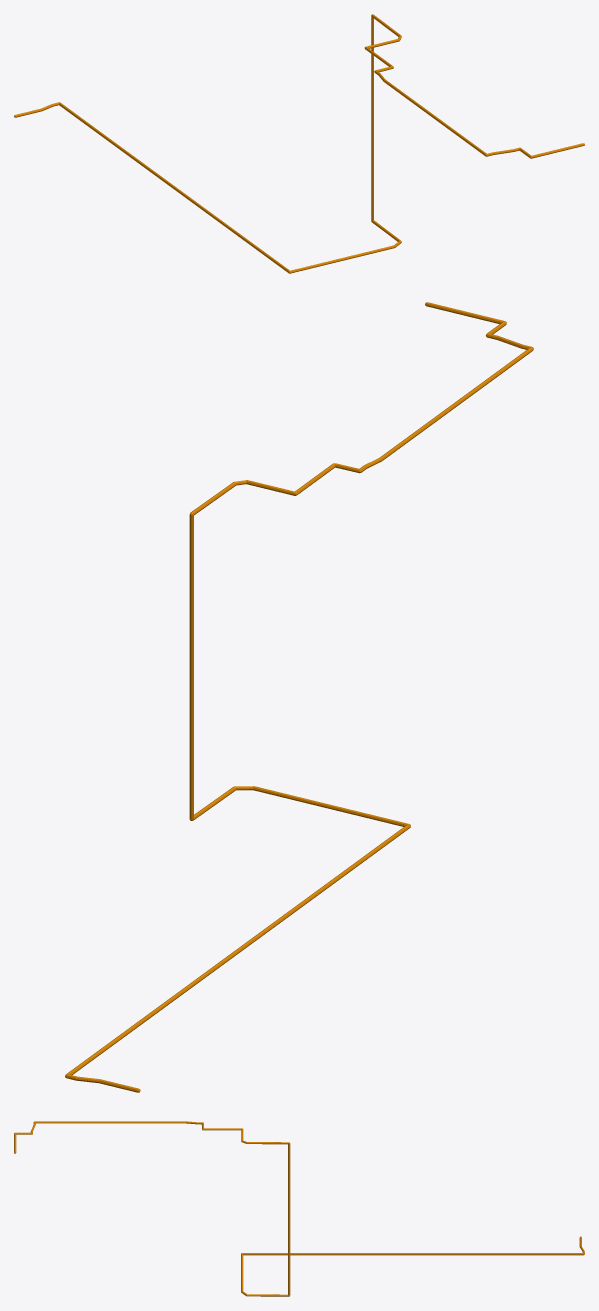
3 renders of one model, top to bottom at view 1: azimuth 30°, elevation 25°; view 2: azimuth 150°, elevation 25°; view 3: azimuth 270°, elevation 25°, orthographic. The views are drawn at different scales.
Bounding box in the file's own units: 1447 × 1520 × 5095.
